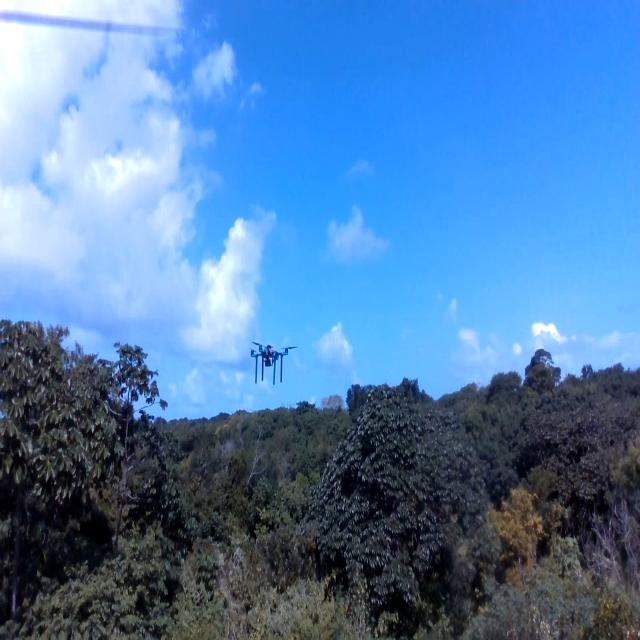-uav-: (242, 326, 300, 393)
